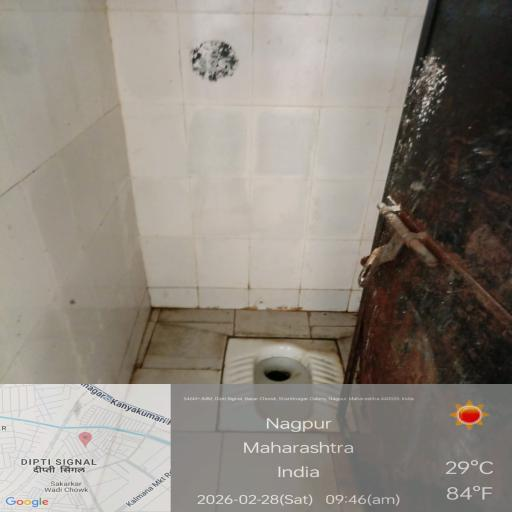clean_floor: (27, 41, 429, 272)
partial_dirty_floor: (129, 300, 421, 512)
partial_dirty_indian: (209, 320, 396, 456)
